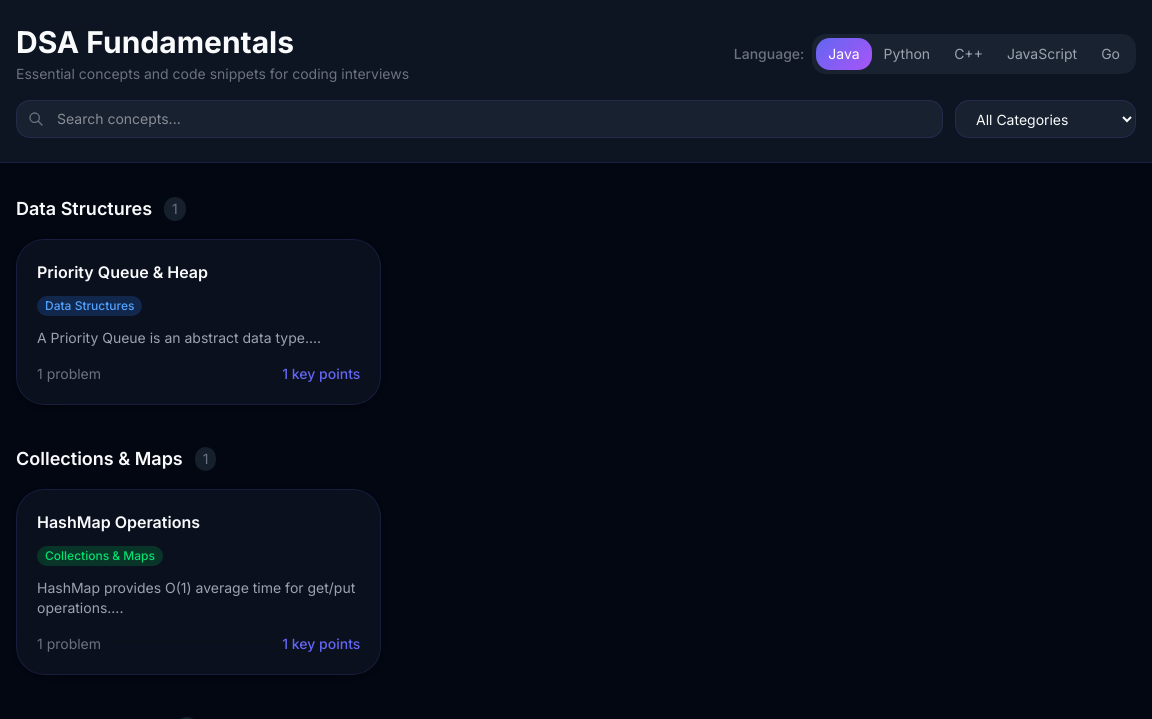
Scenario: DSAFundamentalsClient › filters concepts by search query
Type "HashMap" into the field with placeholder "Search concepts...".
click(480, 119); type("HashMap")  # box [16, 100, 943, 138]
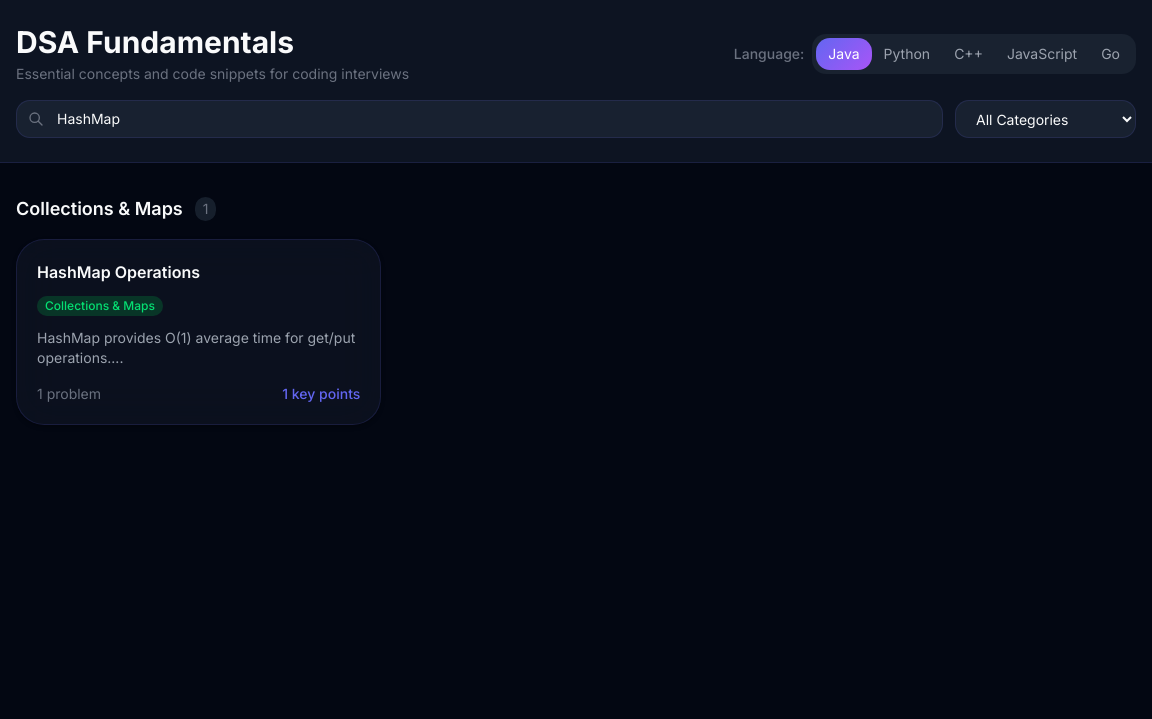
Expected: the heading "HashMap Operations" is shown, [37, 260, 200, 284]
Result: the link "Priority Queue & Heap" is gone
